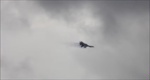maybay_muctieu: (77, 40, 94, 49)
